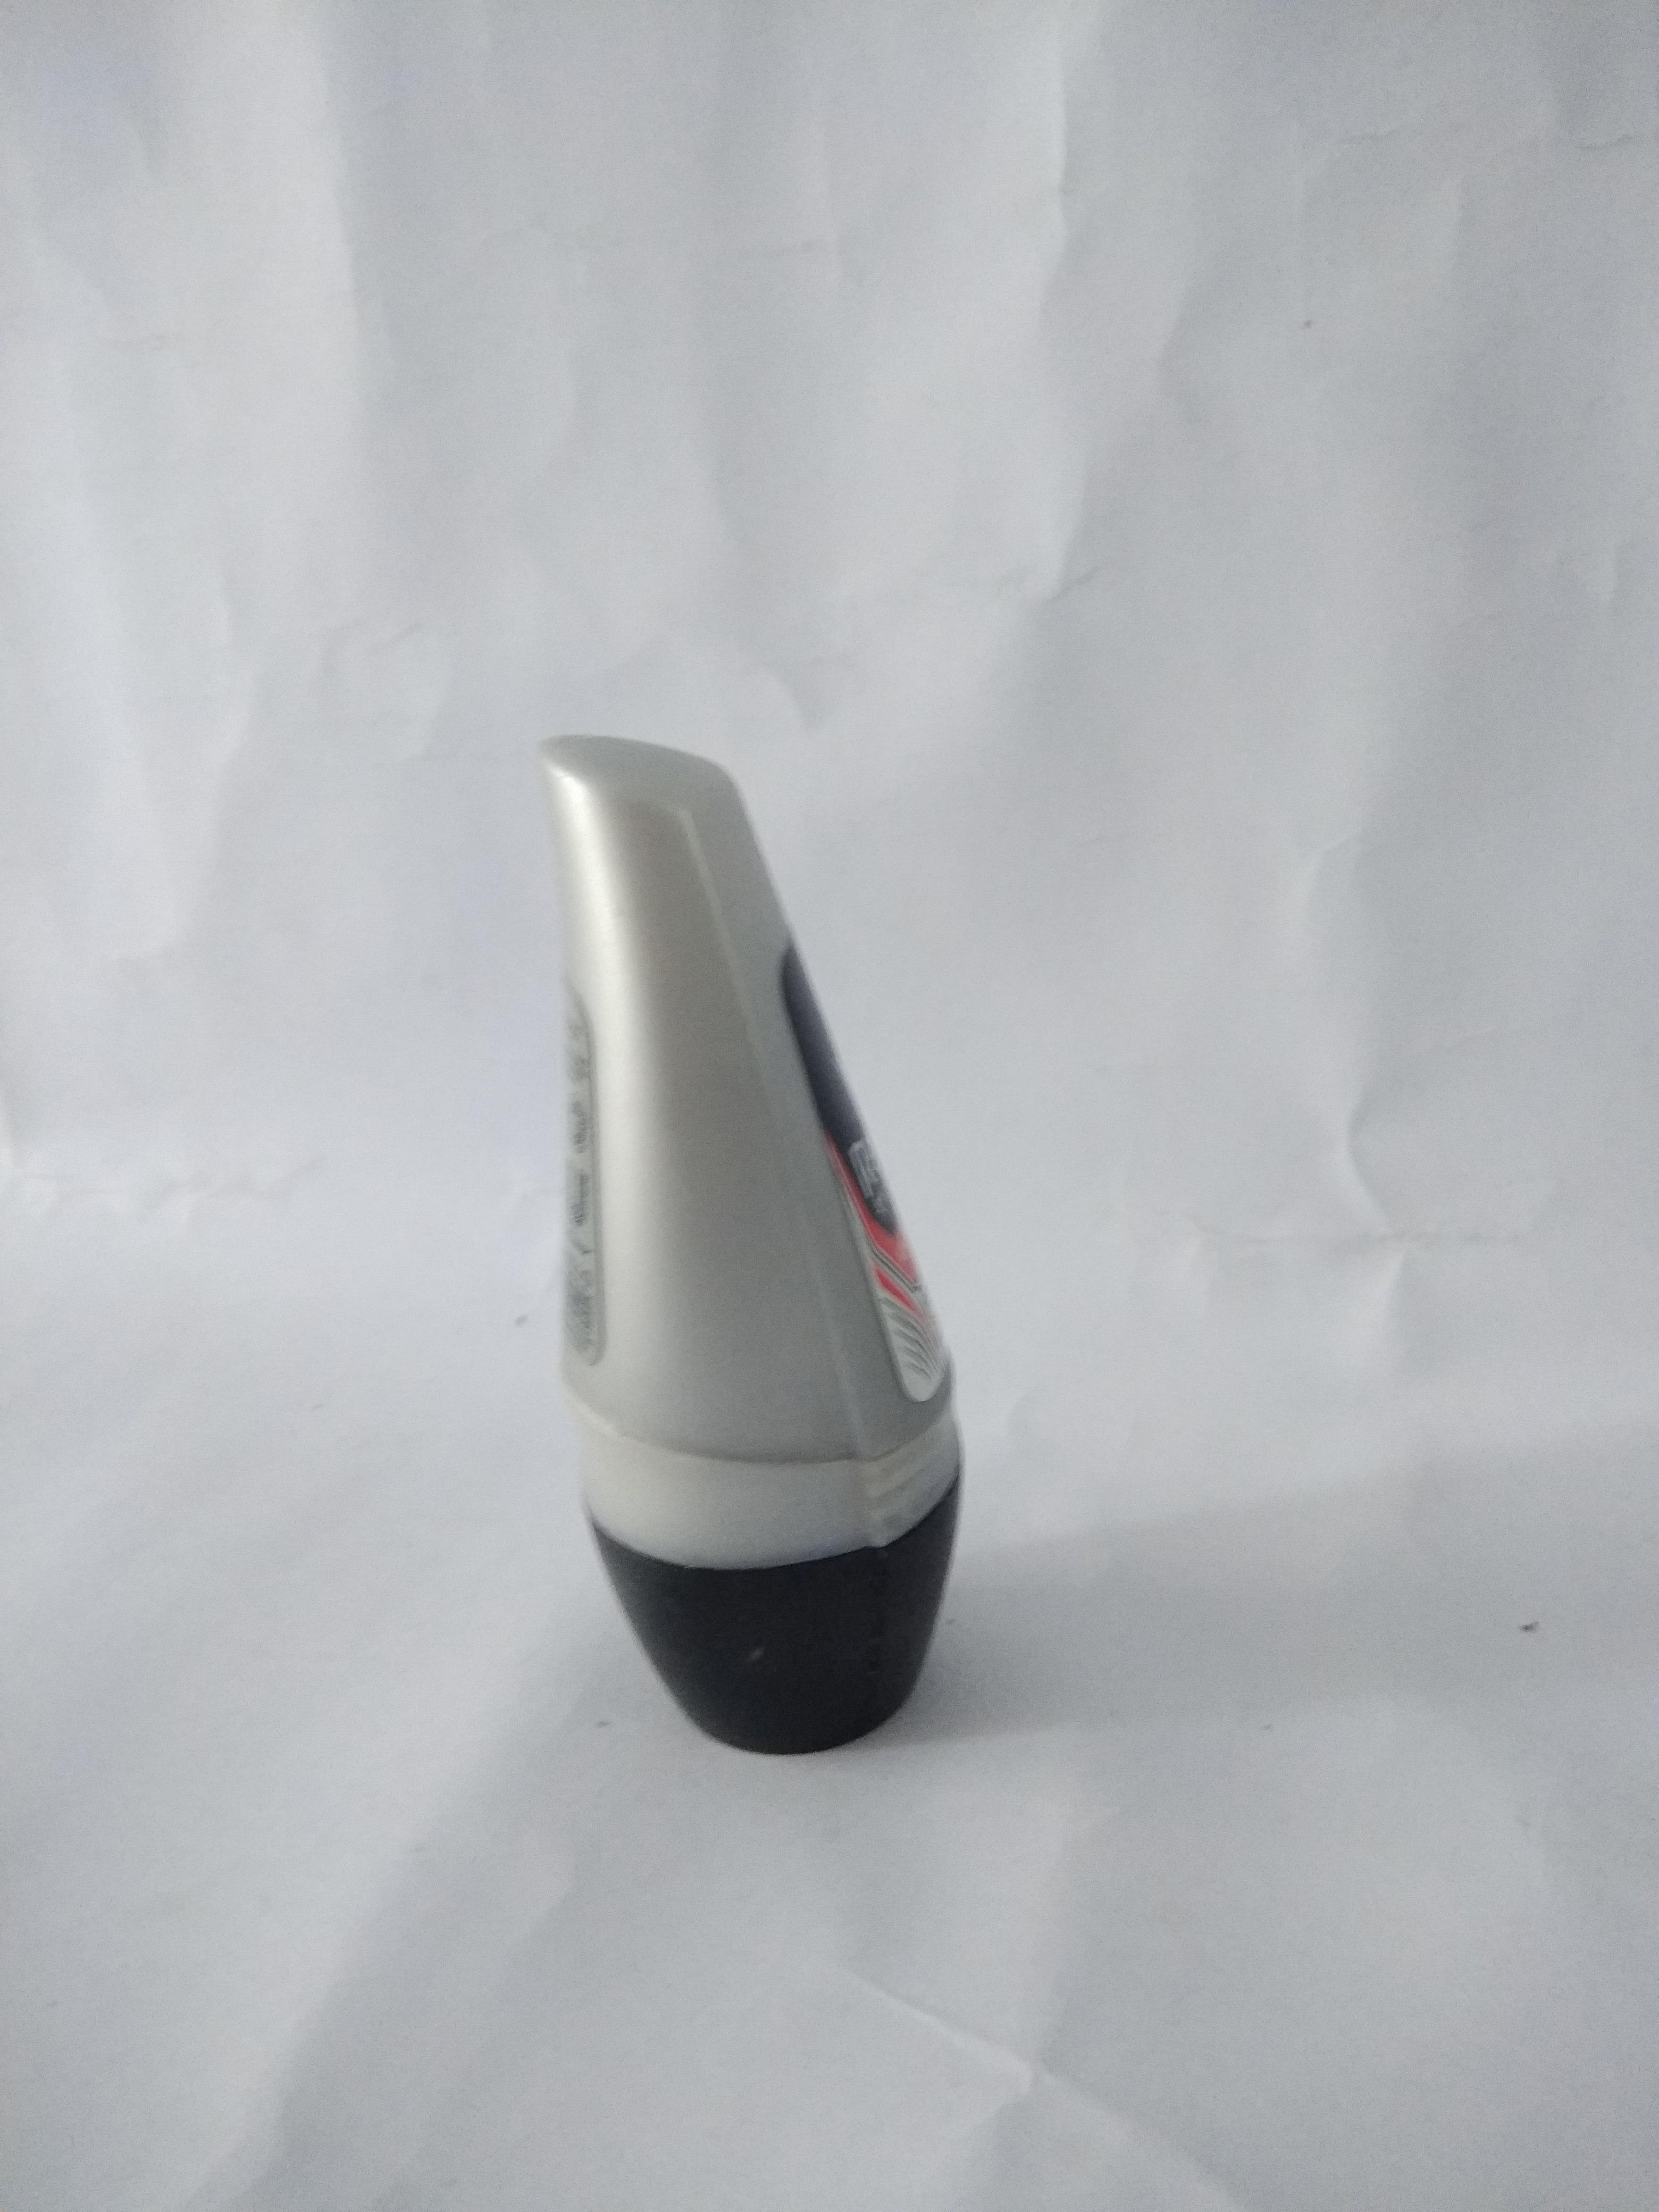HDPE: (532, 730, 971, 1564), (592, 1470, 964, 1752)
